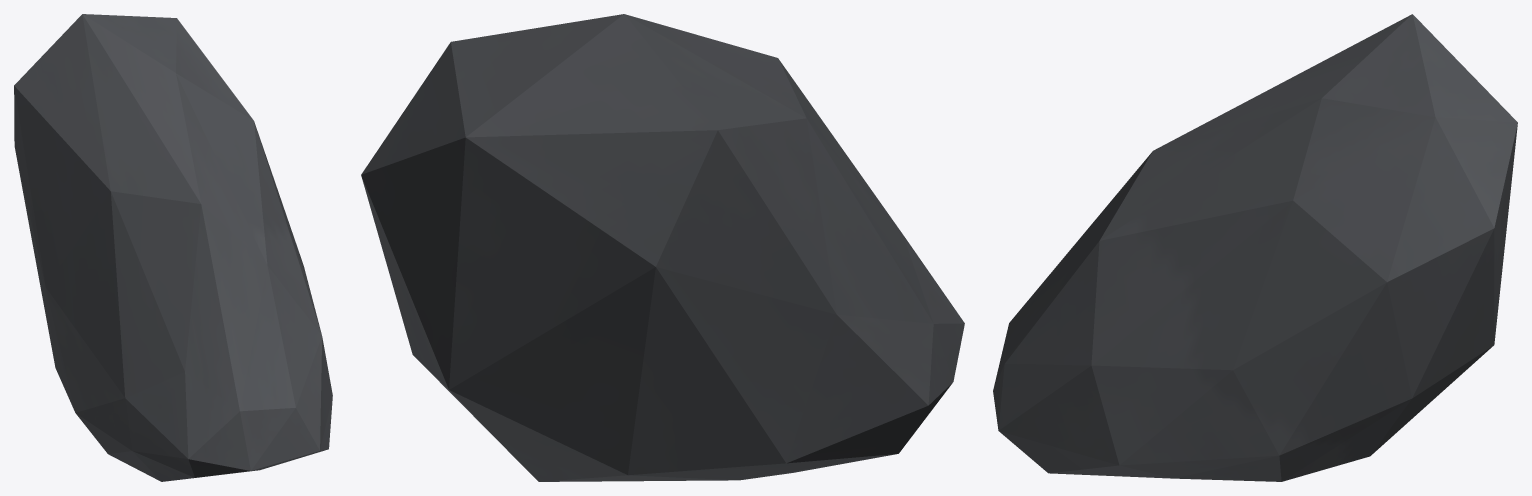
The model's file is Rock2.glb.
3 renders of one model, left to right at view 1: azimuth 30°, elevation 25°; view 2: azimuth 150°, elevation 25°; view 3: azimuth 270°, elevation 25°, orthographic. The views are drawn at different scales.
Visible parts, largest first — view 1: Rock2; view 2: Rock2; view 3: Rock2.
Part boxes in pixels (left/top/right/bottom): Rock2: left=14, top=14, right=332, bottom=481; Rock2: left=361, top=14, right=964, bottom=481; Rock2: left=993, top=14, right=1517, bottom=481.
Bounding box in the file's own units: 2.07 × 2.81 × 3.01.
Materials: 1 (1 with a texture image).
